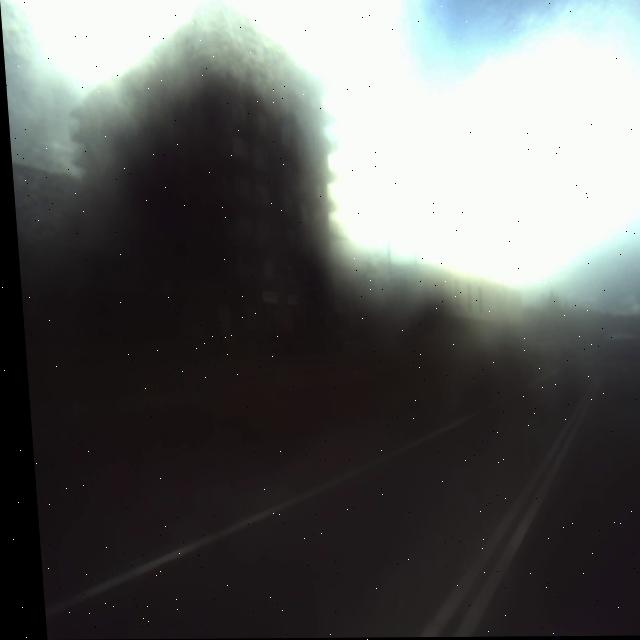car: (586, 327, 640, 401)
